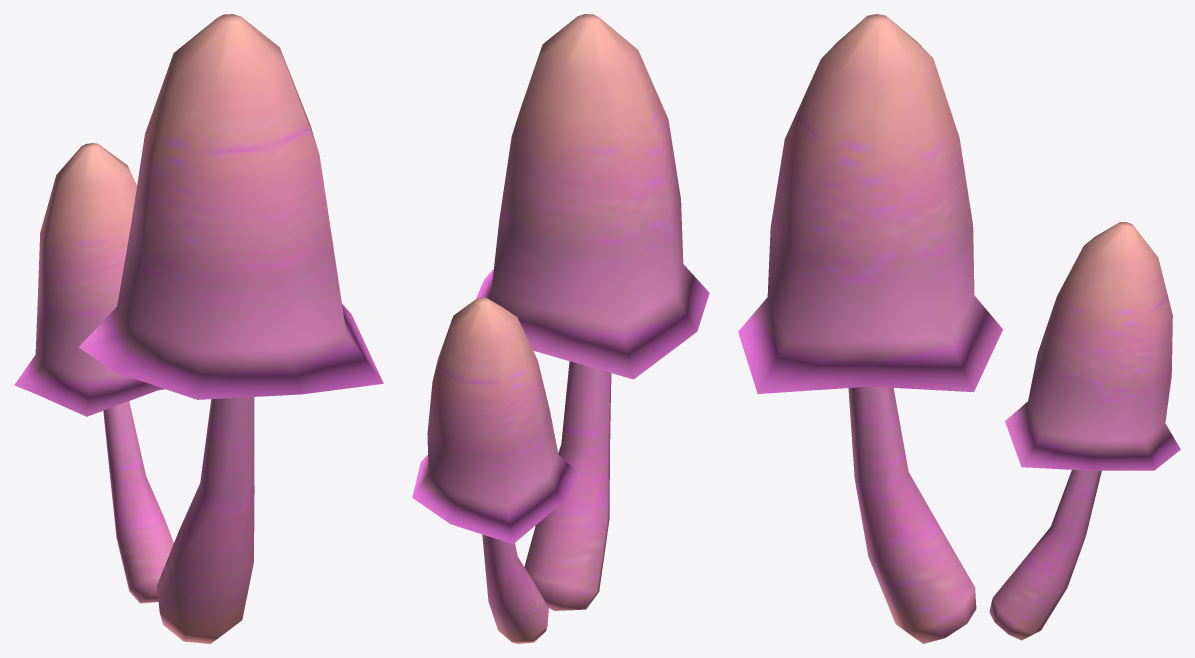
Rendered from grande_peque10.fbx.
3 views of the same model, side by side, from view 1: azimuth 30°, elevation 25°; view 2: azimuth 150°, elevation 25°; view 3: azimuth 270°, elevation 25° (orthographic). The views are drawn at different scales.
Visible parts, largest first — view 1: SetaXS10, SetaS_01B; view 2: SetaXS10, SetaS_01B; view 3: SetaXS10, SetaS_01B.
Part boxes in pixels (box(x1,y1,x2,y2)): SetaXS10: box(79, 14, 383, 643); SetaS_01B: box(14, 143, 173, 603); SetaXS10: box(476, 14, 709, 610); SetaS_01B: box(412, 297, 580, 643); SetaXS10: box(738, 14, 1002, 643); SetaS_01B: box(989, 222, 1180, 640).
Bounding box in the file's own units: 205 × 527 × 342.
1 material, 1 textured.
